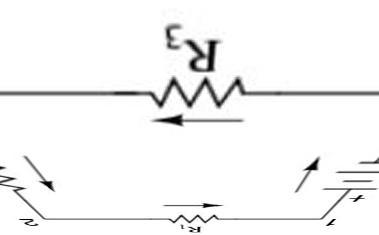resistor: (133, 70, 253, 112), (161, 206, 225, 223)
